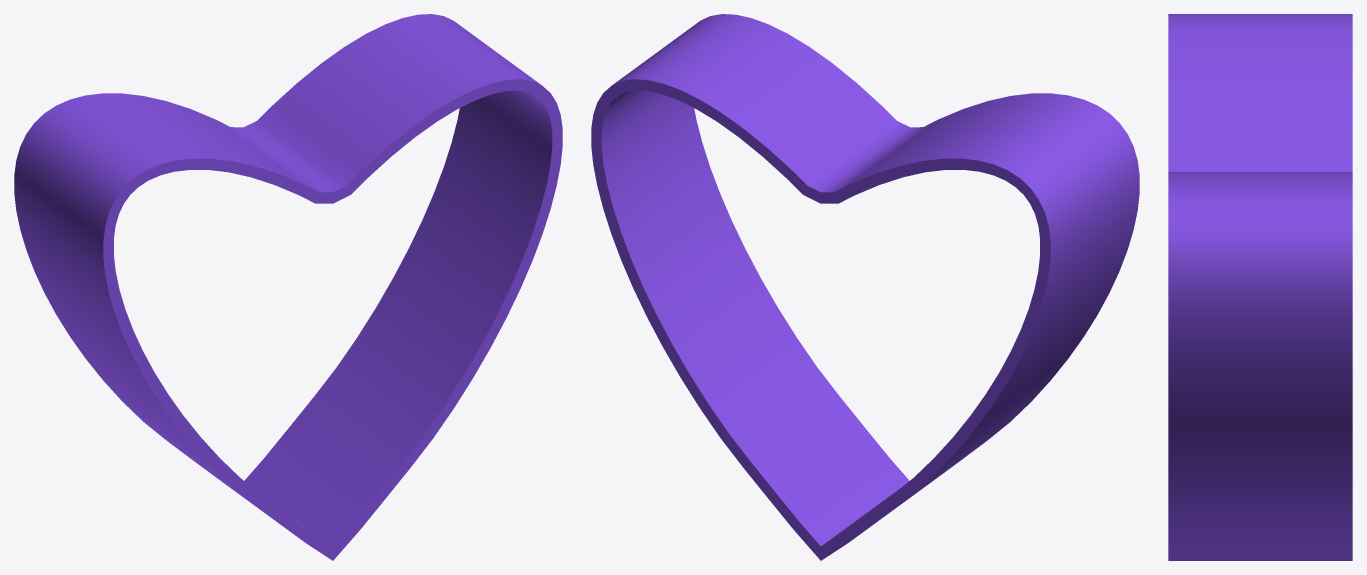
The model's file is hearthollow.fbx.
The picture shows the model from 3 angles, left to right: view 1: azimuth 30°, elevation 25°; view 2: azimuth 150°, elevation 25°; view 3: azimuth 270°, elevation 25°; orthographic projection. The views are drawn at different scales.
Parts seen in each view (by area): view 1: hearthollow; view 2: hearthollow; view 3: hearthollow.
Boxes of the visible parts, x1,y1,x2,y2 form: hearthollow: (14,14,562,560); hearthollow: (591,14,1139,560); hearthollow: (1168,14,1352,560).
Size of the model in its own units: 101 by 92.64 by 34.09.
